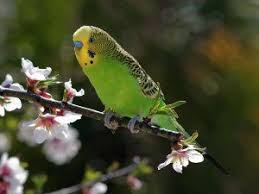budgie: (70, 24, 204, 141)
